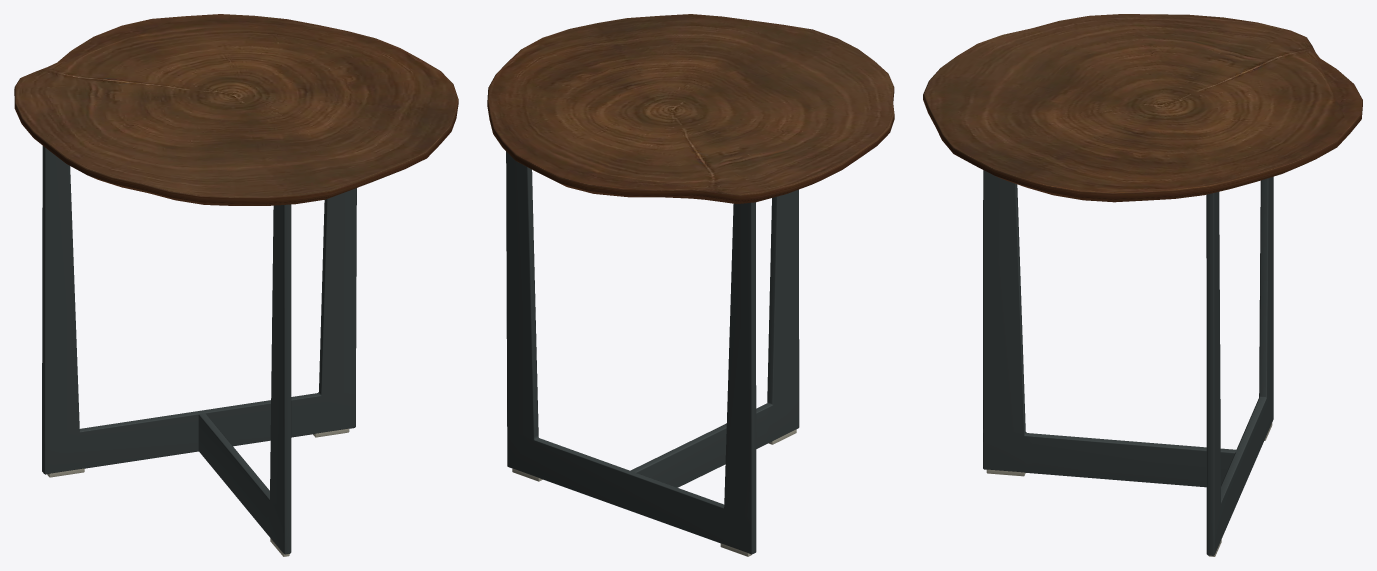
The model's file is B072ZLCB3M.glb.
3 renders of one model, left to right at view 1: azimuth 30°, elevation 25°; view 2: azimuth 150°, elevation 25°; view 3: azimuth 270°, elevation 25°, orthographic. The views are drawn at different scales.
Parts seen in each view (by area): view 1: RootNode; view 2: RootNode; view 3: RootNode.
Part boxes in pixels (x1,y1,x2,y2): RootNode: [14, 14, 458, 556]; RootNode: [487, 14, 894, 556]; RootNode: [923, 14, 1362, 556].
Bounding box in the file's own units: 0.4767 × 0.4764 × 0.4936.
Materials: 1 (1 with a texture image).
